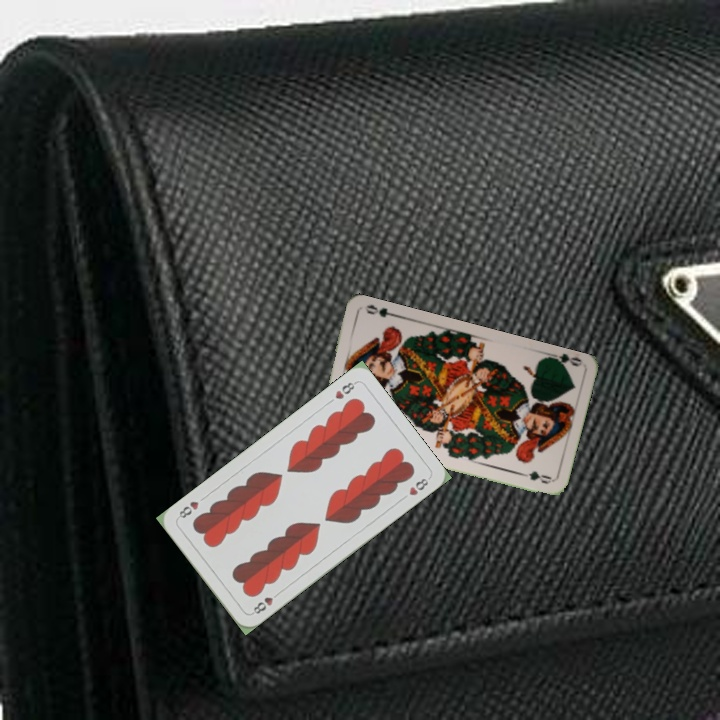GO: (542, 348, 584, 371)
H8: (248, 588, 282, 617), (331, 378, 359, 402)
